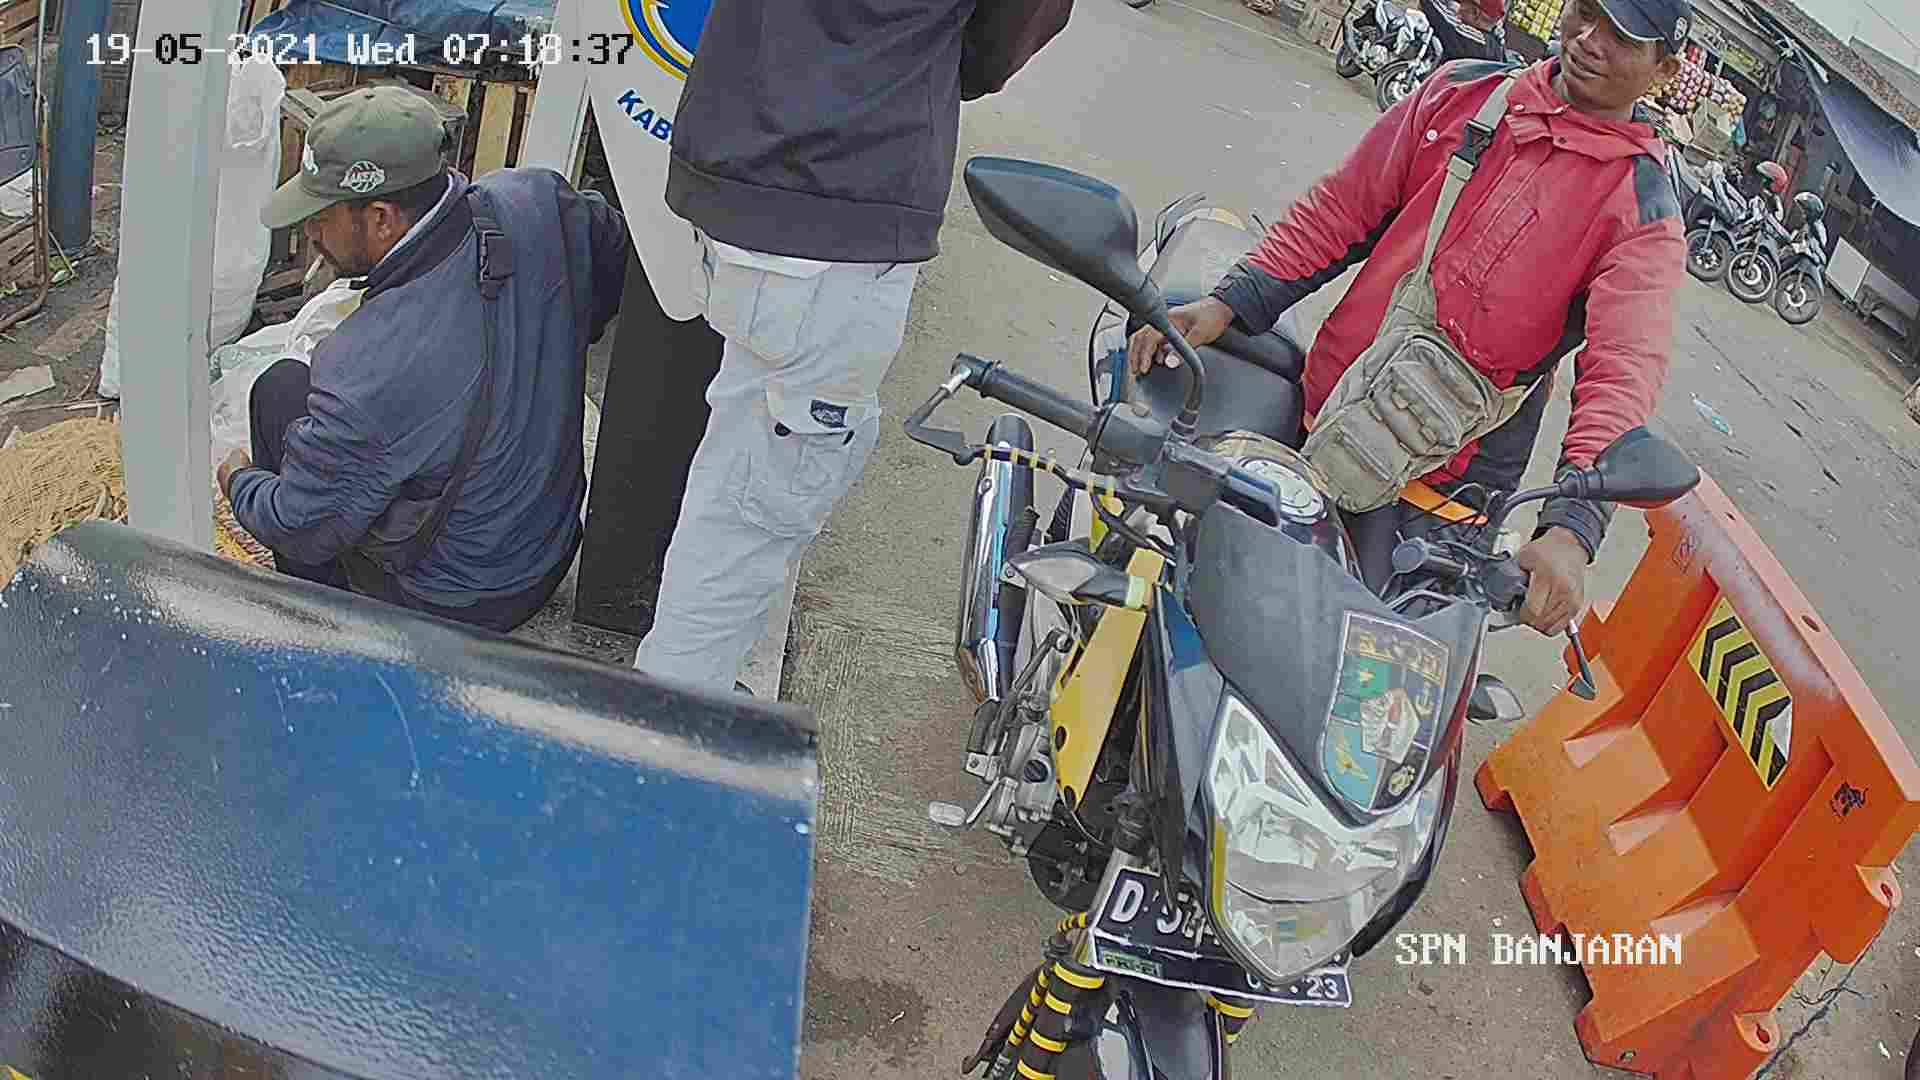motor: (855, 228, 1560, 1080)
